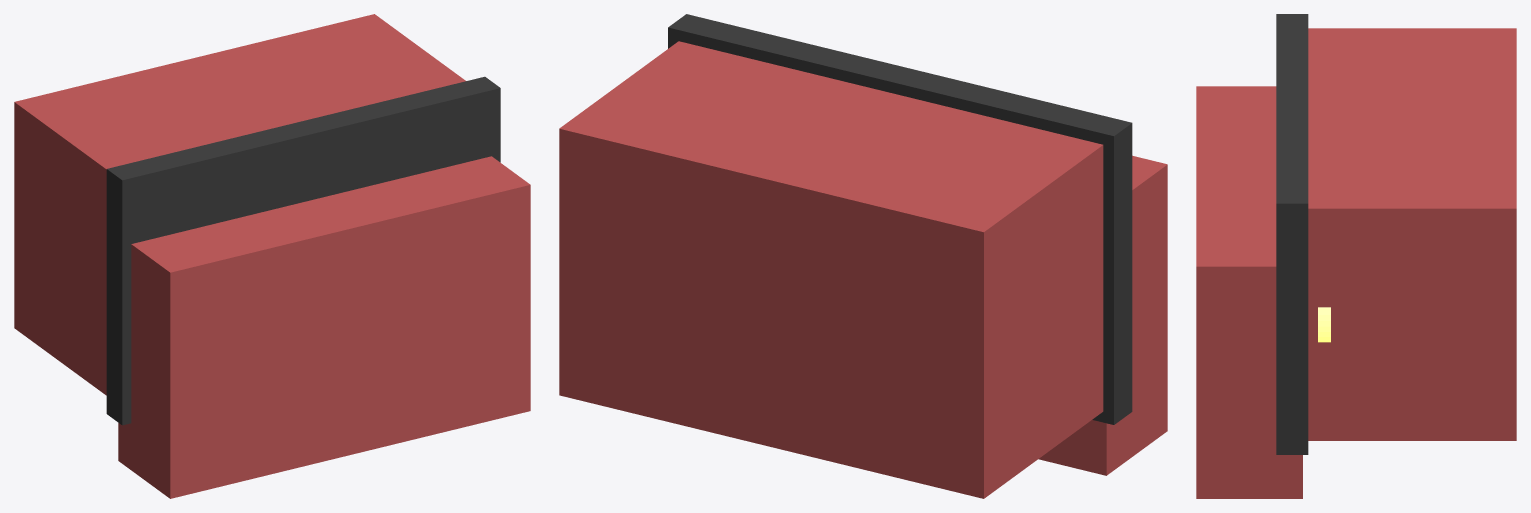
File: t-chest.glb
3 views of the same model, side by side, from view 1: azimuth 30°, elevation 25°; view 2: azimuth 150°, elevation 25°; view 3: azimuth 270°, elevation 25° (orthographic). The views are drawn at different scales.
Parts seen in each view (by area): view 1: Lid, Base, Frame; view 2: Base, Frame, Lid; view 3: Base, Lid, Frame, world.
Boxes of the visible parts, x1,y1,x2,y2 form: Lid: (118, 156, 530, 498); Base: (14, 14, 465, 395); Frame: (106, 76, 500, 425); Base: (559, 41, 1103, 498); Frame: (668, 14, 1132, 424); Lid: (1038, 155, 1167, 475); Base: (1308, 28, 1516, 440); Lid: (1196, 86, 1302, 498); Frame: (1276, 14, 1308, 454); world: (1318, 307, 1330, 342).
Bounding box in the file's own units: 2.1 × 1.55 × 1.5.
